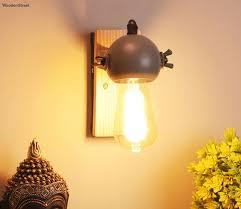light: (84, 25, 186, 158)
